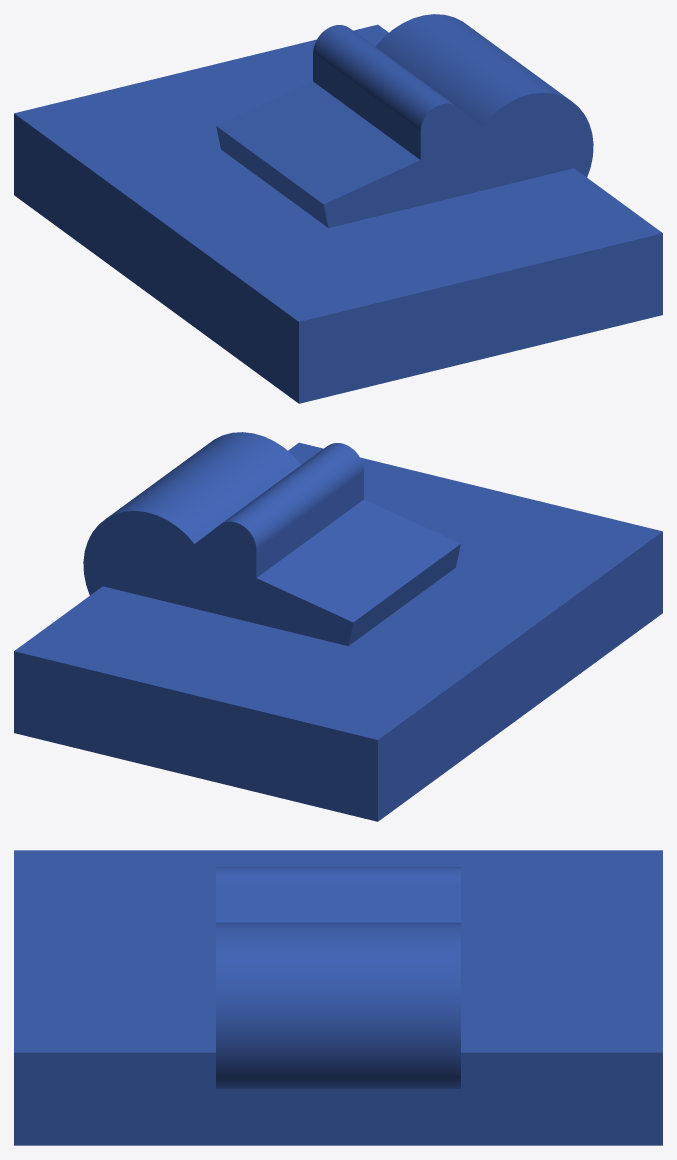
File: Mrs Buff Mk2 Image Synthesis.dae
The picture shows the model from 3 angles, top to bottom: view 1: azimuth 30°, elevation 25°; view 2: azimuth 150°, elevation 25°; view 3: azimuth 270°, elevation 25°; orthographic projection. The views are drawn at different scales.
Visible parts, largest first — view 1: ID2; view 2: ID2; view 3: ID2.
Boxes of the visible parts, left/top/right/bottom form: ID2: left=14, top=14, right=662, bottom=403; ID2: left=14, top=432, right=662, bottom=821; ID2: left=14, top=850, right=662, bottom=1145.
Size of the model in its own units: 0.177 by 0.228 by 0.0786.
